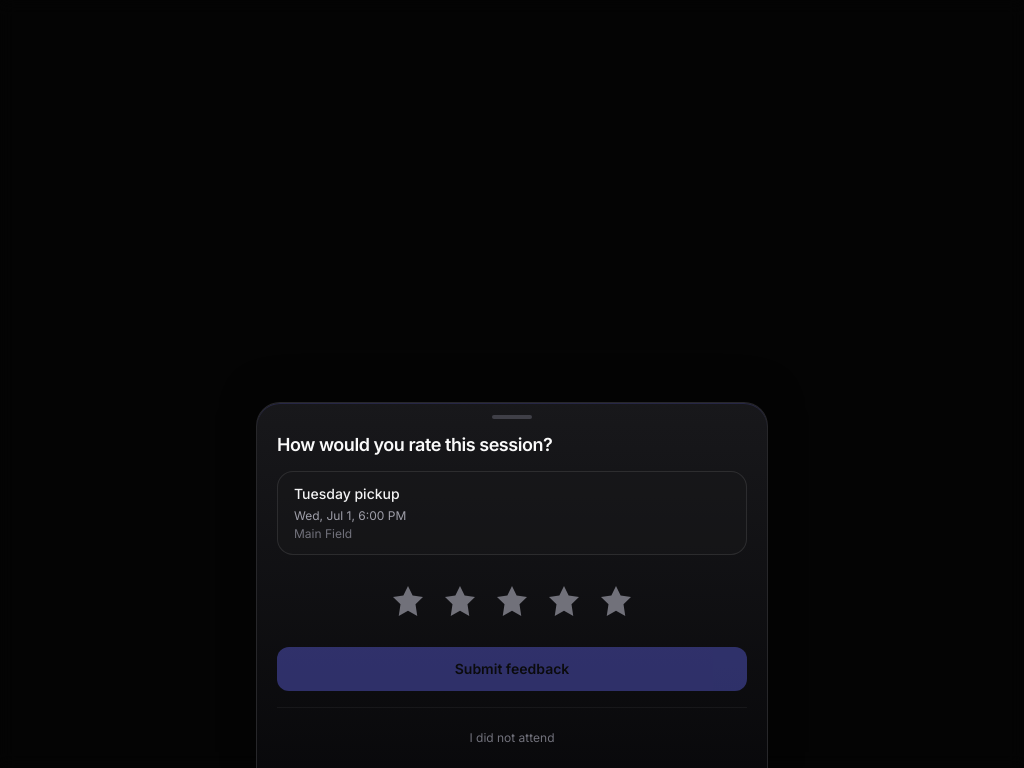
Test: SessionFeedbackSheet › expands comments when rating is below 5 and requires them at 2 stars
Expected: the field labelled "comments" is not shown
Click the radio button named "4 stars" at (564, 601), box x1=542 y1=579 x2=586 y2=623
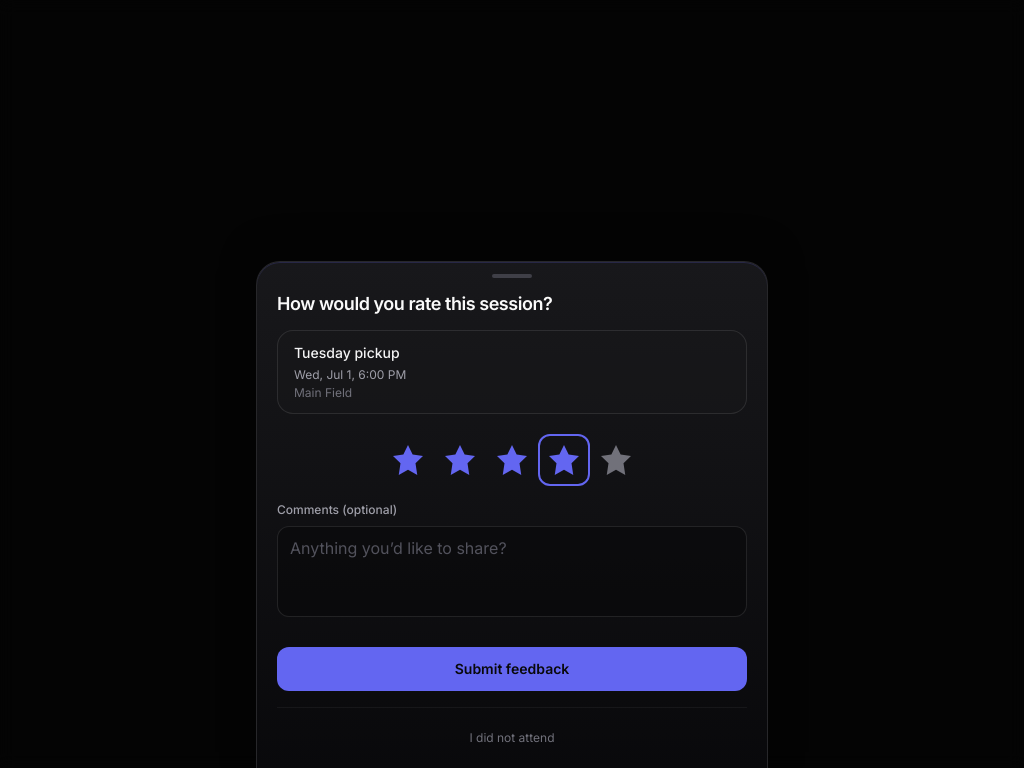
Expected: the text box labelled "Comments (optional)" is shown, x1=277 y1=526 x2=747 y2=617
Expected: the button "Submit feedback" is enabled, x1=277 y1=647 x2=747 y2=691
Click the radio button named "2 stars" at (460, 460), box x1=438 y1=438 x2=482 y2=482
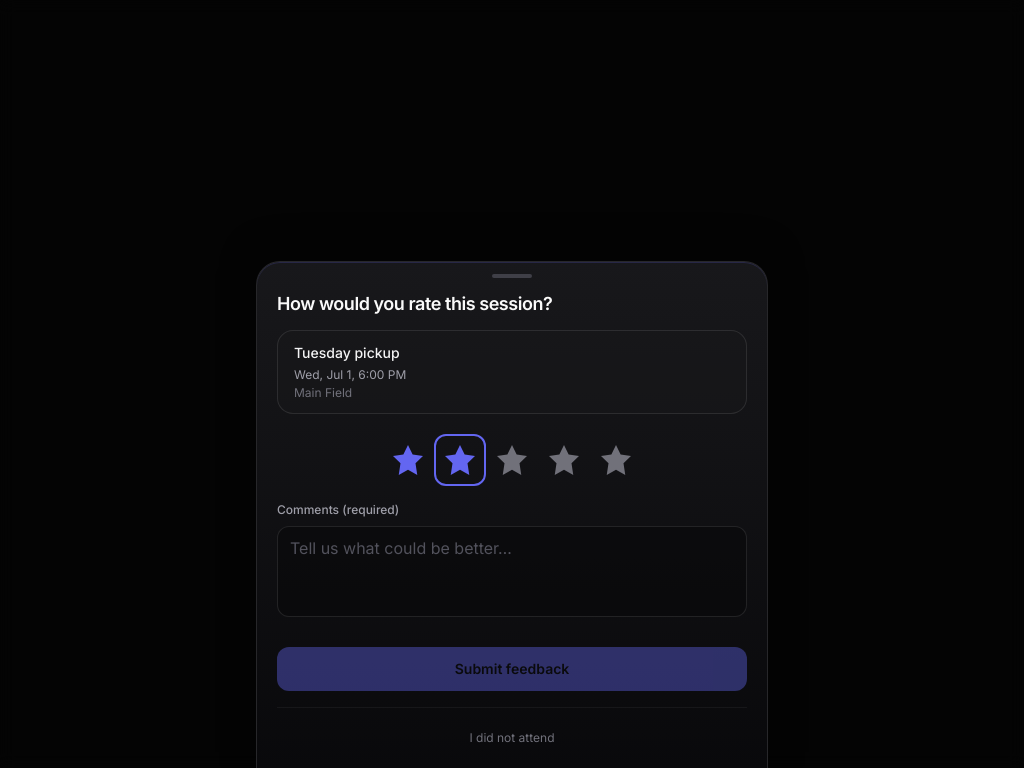
Expected: the text box labelled "Comments (required)" is shown
Expected: the button "Submit feedback" is disabled, x1=277 y1=647 x2=747 y2=691
Type "Needs better warmup" into the text box labelled "Comments (required)" at (512, 572), box x1=277 y1=526 x2=747 y2=617
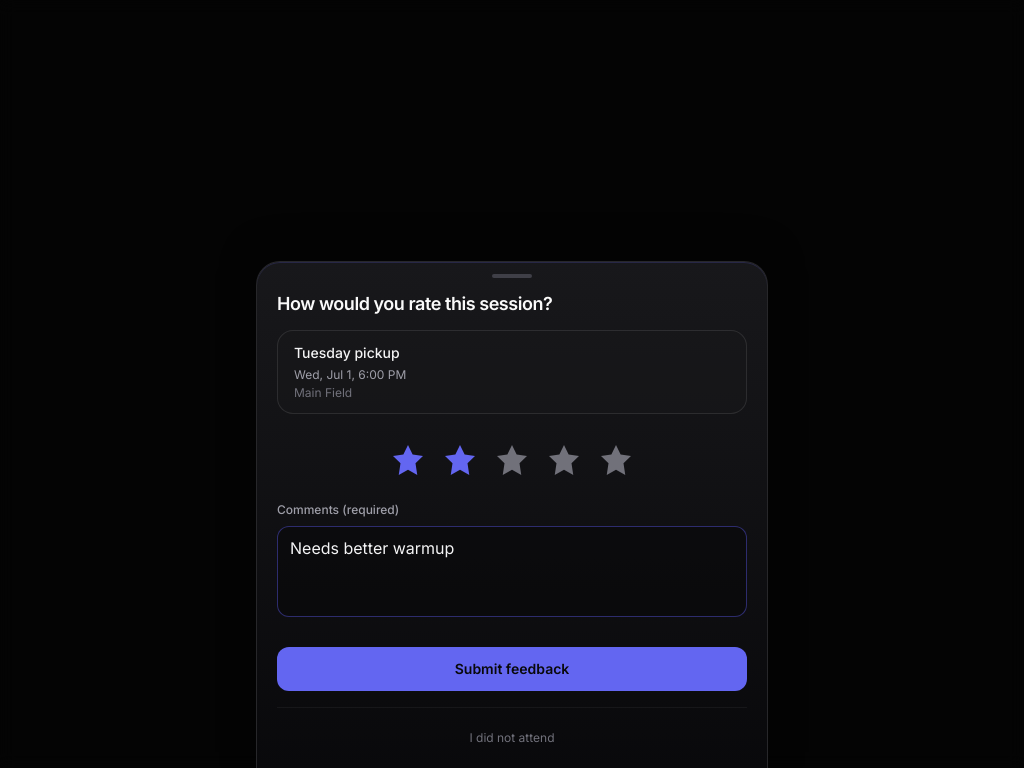
Expected: the button "Submit feedback" is enabled, x1=277 y1=647 x2=747 y2=691
